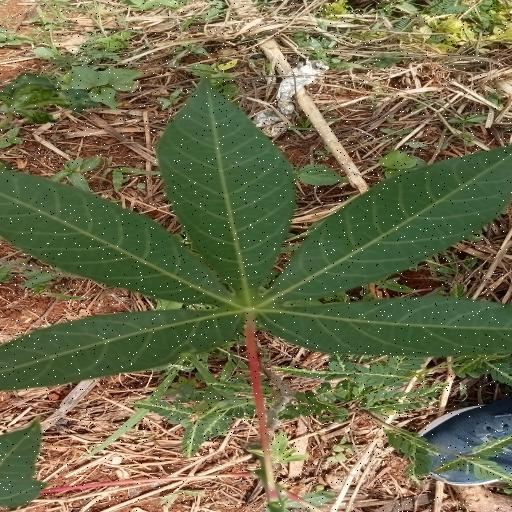Cassava_Healthy: (3, 77, 512, 388)
